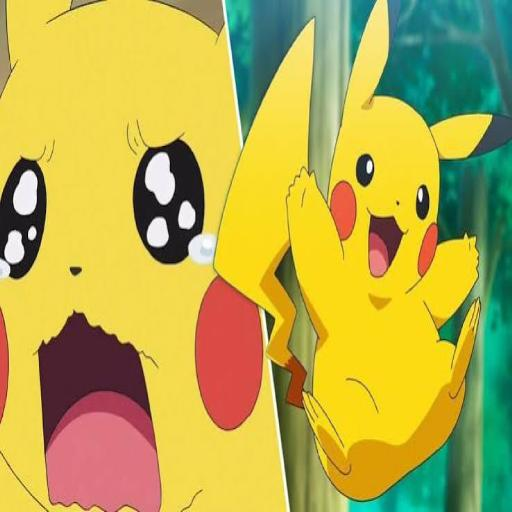Pikachu: (212, 0, 512, 501), (0, 0, 290, 512)
